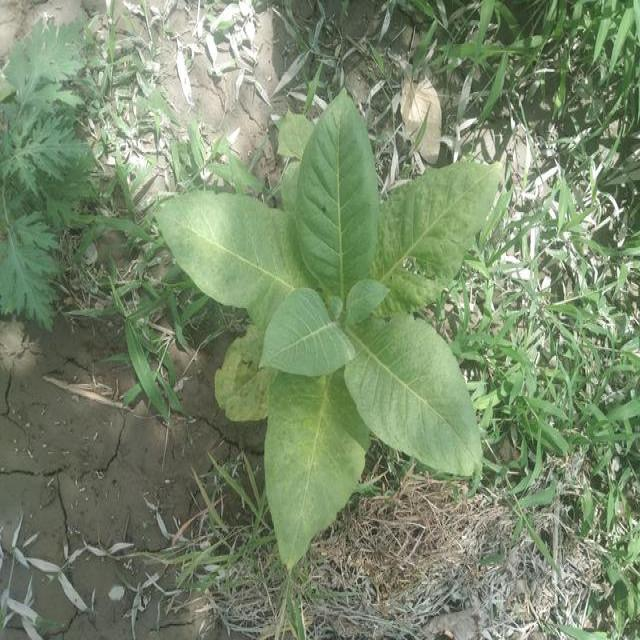crop: (152, 85, 504, 572)
